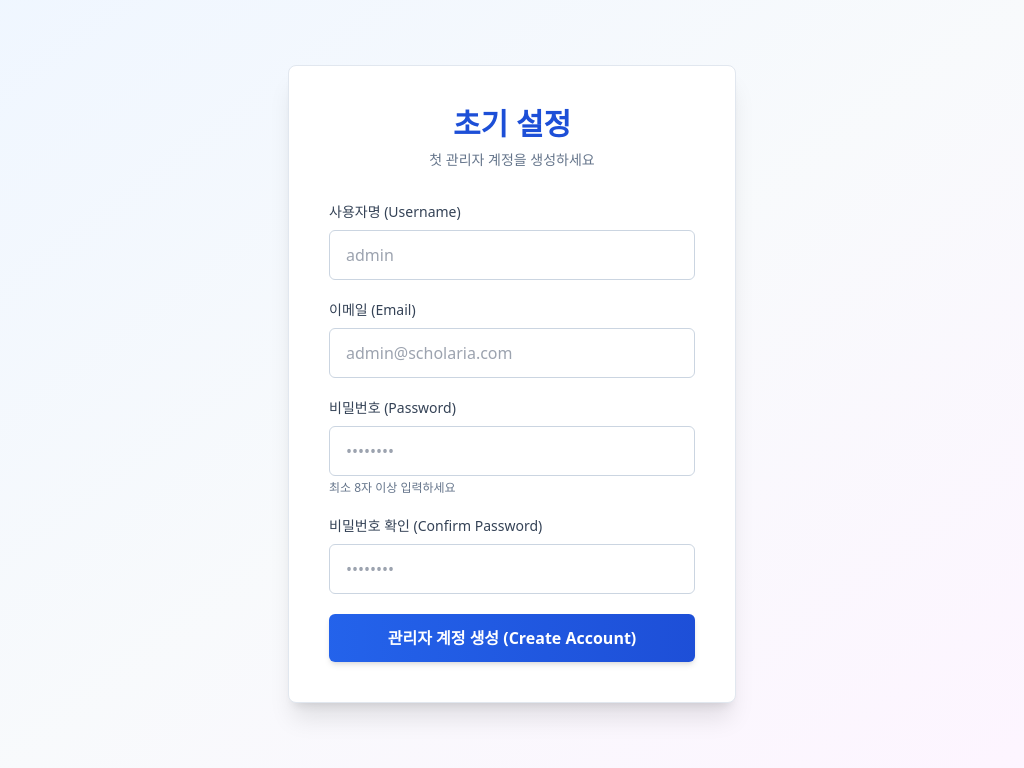
it: SetupPage › 비밀번호 불일치 검증 - 에러 메시지 표시
Type "testuser" into the field labelled "Username". click: point(512, 255)
box: [329,230,695,280]
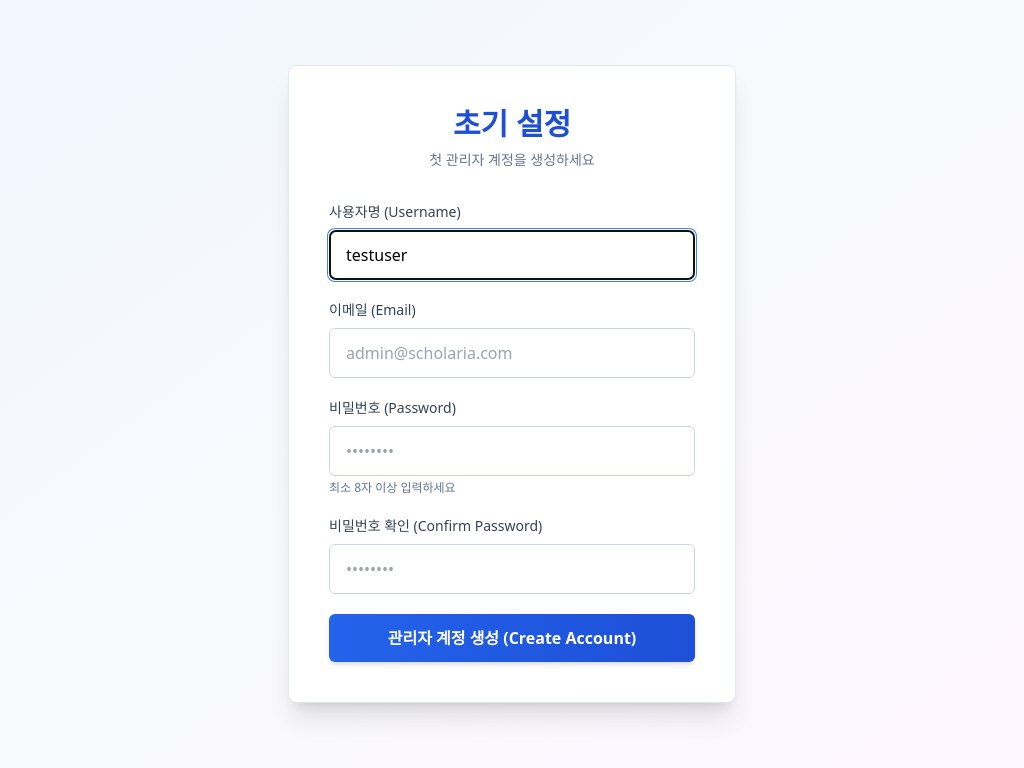
Type "test@test.com" into the field labelled "Email". click: point(512, 353)
box: [329,328,695,378]
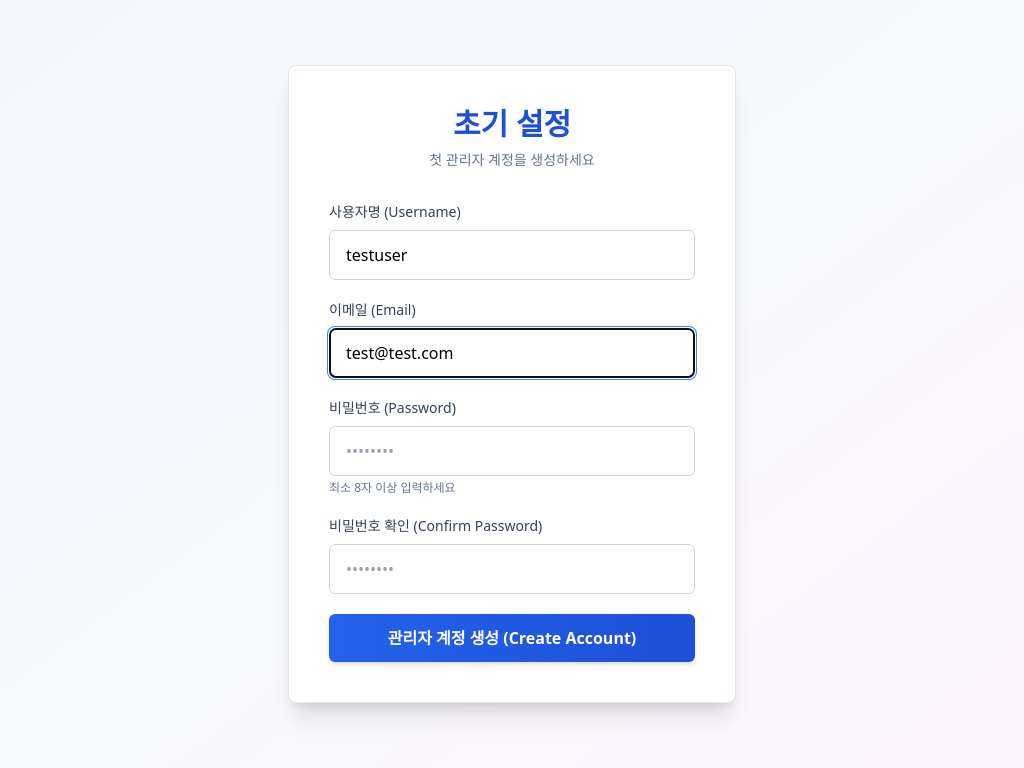
Type "password123" into the password field labelled "Password". click: point(512, 451)
box: [329,426,695,476]
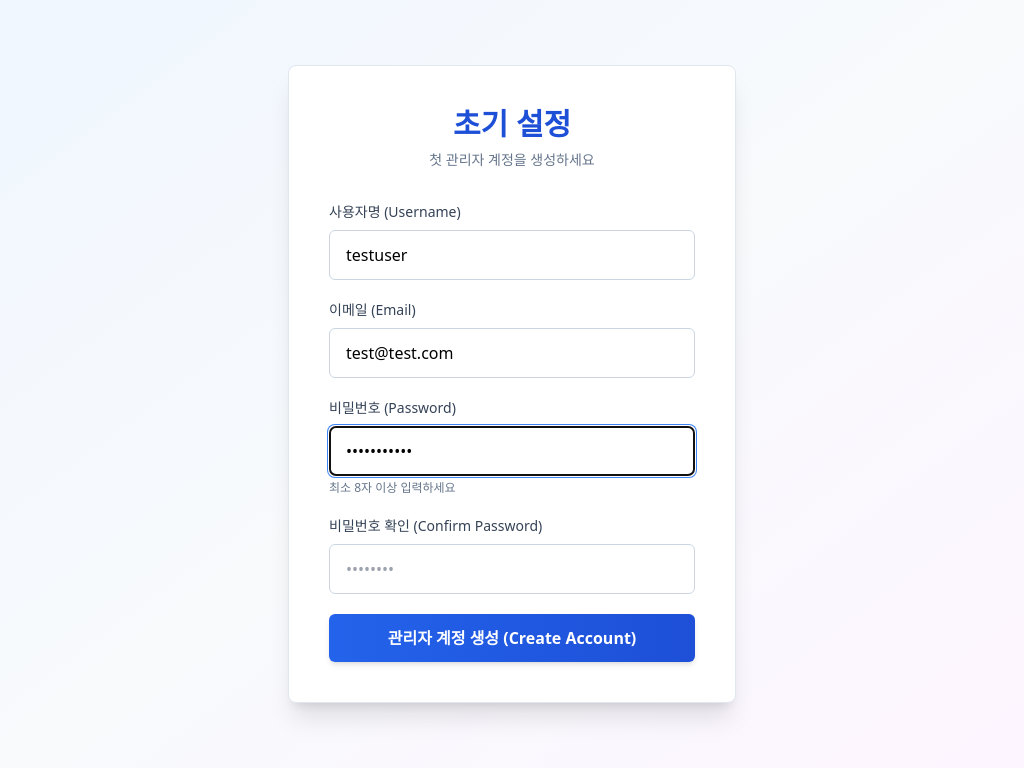
Type "password456" into the password field labelled "Confirm Password". click: point(512, 569)
box: [329,544,695,594]
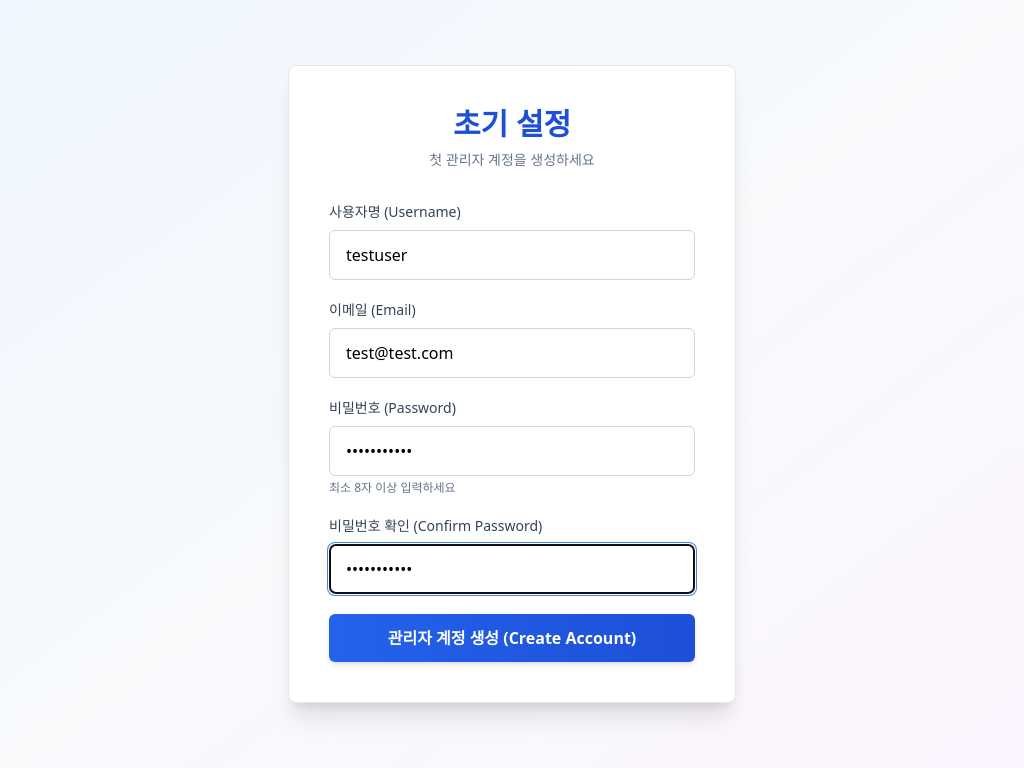
Click the button "관리자 계정 생성 (Create Account)". click: point(512, 638)
box: [329,614,695,662]
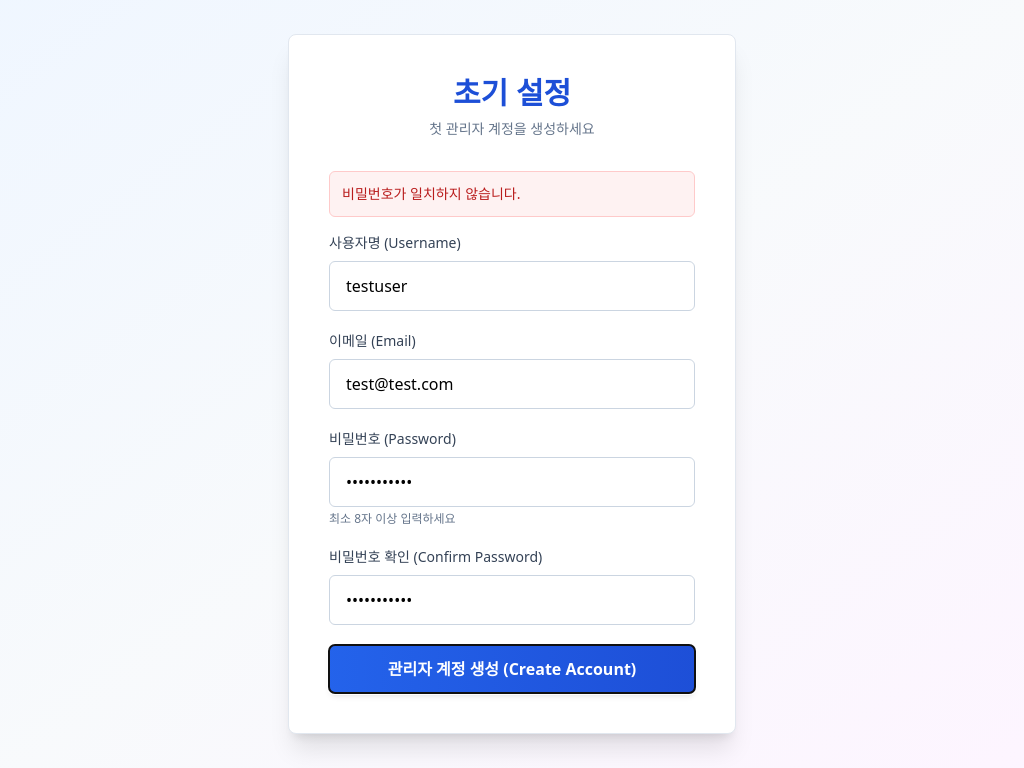
Expected: the text "비밀번호가 일치하지 않습니다." is shown, [329,171,695,217]
